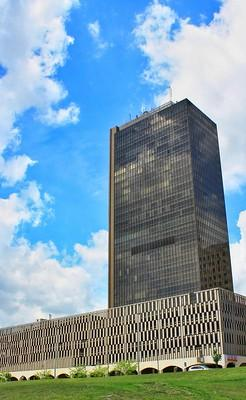building: (104, 95, 240, 347)
